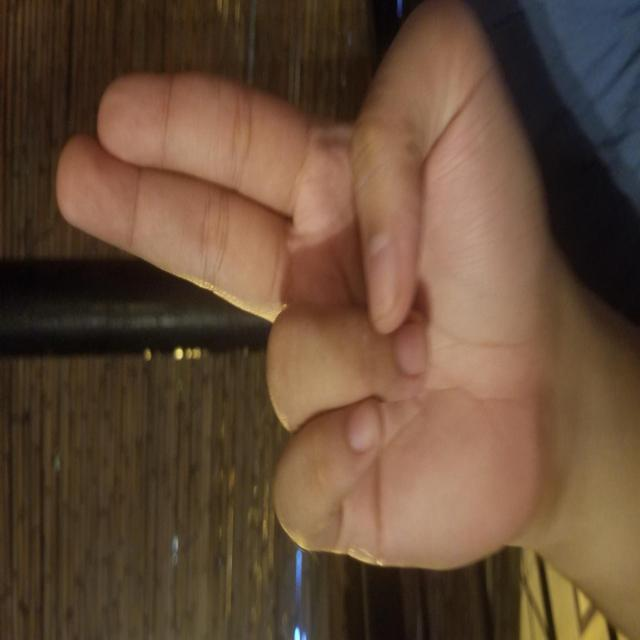U: (63, 52, 640, 541)
